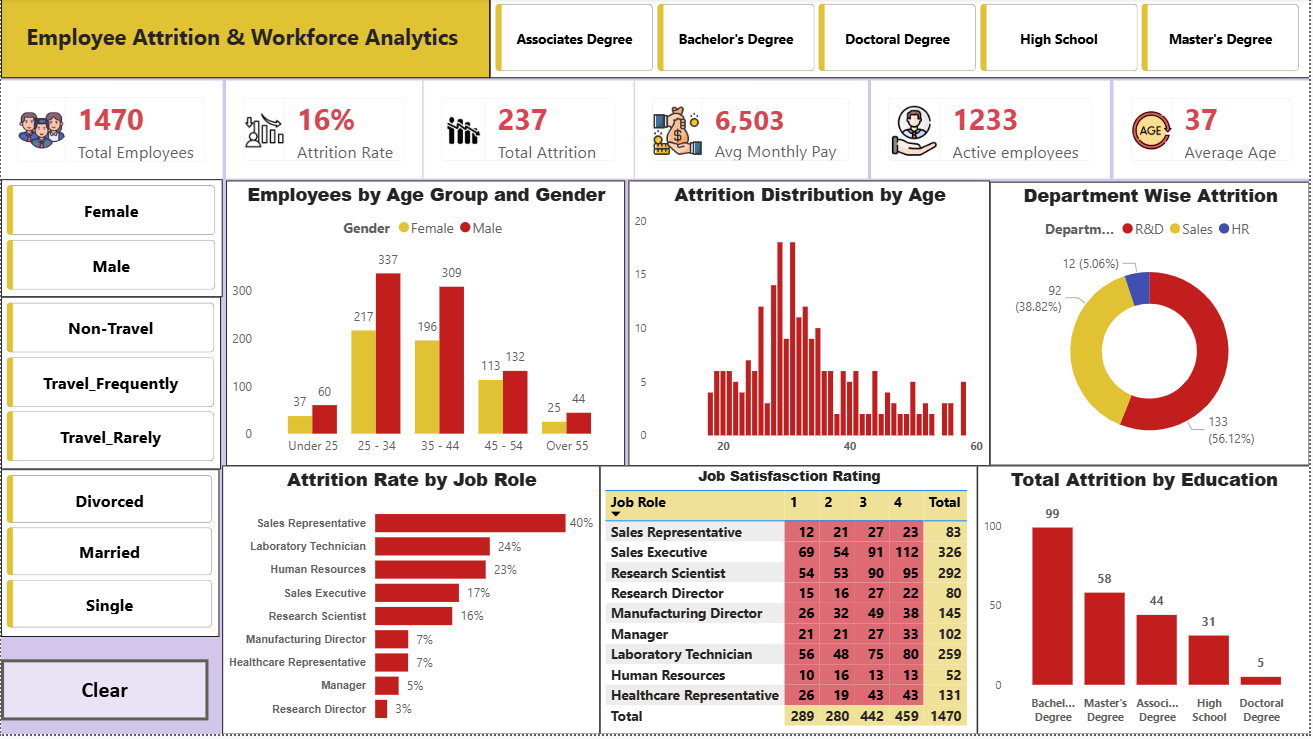

Layout of this report page (visuals, bound fields, positions):
{"tool":"powerbi","page":{"name":"HR Dashboard","canvas":[1280,720],"ordinal":0},"visuals":[{"type":"cardVisual","title":"Att","fields":{"Data":["Measures (2).Total Employees"]},"box":[0,80.7,216.4,96.6],"z":0},{"type":"cardVisual","fields":{"Data":["Measures (2).Average Monthly salary"]},"box":[620.2,81,227.8,96.1],"z":1000},{"type":"cardVisual","fields":{"Data":["Measures (2).Total Attrition"]},"box":[413,81,205.8,96.1],"z":2000},{"type":"cardVisual","fields":{"Data":["Measures (2).Attrition Rate"]},"box":[219.6,81,192.1,96.1],"z":3000},{"type":"cardVisual","fields":{"Data":["Measures (2).Active employees"]},"box":[850.8,81,233.3,96.1],"z":4000},{"type":"cardVisual","fields":{"Data":["Measures (2).Average Age"]},"box":[1088.2,81,192.1,96.1],"z":5000},{"type":"clusteredColumnChart","title":"Employees by Age Group and Gender","fields":{"Y":["Measures (2).Total Employees"],"Category":["HR data.Age Group"],"Series":["HR data.Gender"]},"box":[220.1,178.5,390.1,278.8],"z":6000},{"type":"clusteredColumnChart","title":"Attrition Distribution by Age","fields":{"Category":["HR data.Age"],"Y":["Measures (2).Total Attrition"]},"box":[613.9,178.5,353.4,278.8],"z":7000},{"type":"donutChart","title":"Department Wise Attrition","fields":{"Category":["HR data.Department"],"Y":["Measures (2).Total Attrition"]},"box":[967.3,179.8,313,277.6],"z":8000},{"type":"barChart","fields":{"Category":["HR data.Job Role"],"Y":["Measures (2).Attrition Rate"]},"box":[216.4,457.3,369.3,262.9],"z":9000},{"type":"pivotTable","title":"Job Satisfasction Rating","fields":{"Rows":["HR data.Job Role"],"Columns":["HR data.Job Satisfaction"],"Values":["Measures (2).Total Employees"]},"box":[585.7,457.3,369.3,262.9],"z":10000},{"type":"columnChart","fields":{"Category":["HR data.Education"],"Y":["Measures (2).Total Attrition"]},"box":[955,457.3,325.3,262.9],"z":11000},{"type":"advancedSlicerVisual","fields":{"Values":["HR data.Gender"]},"box":[0,177.3,216.4,114.9],"z":12000},{"type":"advancedSlicerVisual","fields":{"Values":["HR data.Marital Status"]},"box":[0,461,214,163.9],"z":13000},{"type":"advancedSlicerVisual","fields":{"Values":["HR data.Business Travel"]},"box":[0,292.3,215.2,168.8],"z":14000},{"type":"advancedSlicerVisual","fields":{"Values":["HR data.Education"]},"box":[478.1,0,802.2,78.3],"z":14001},{"type":"actionButton","box":[0,646.9,203,59.9],"z":14002},{"type":"textbox","box":[0,0,478.1,78],"z":14003}]}

Visuals, with their boxes in screenshot pixels (x1, y1, x2, y2), scaled from the page's 1280x720 canvas onto the 1313x739 screenshot:
"Att" cardVisual: (0,83,222,182)
cardVisual - Measures (2).Average Monthly salary: (636,83,870,182)
cardVisual - Measures (2).Total Attrition: (424,83,635,182)
cardVisual - Measures (2).Attrition Rate: (225,83,422,182)
cardVisual - Measures (2).Active employees: (873,83,1112,182)
cardVisual - Measures (2).Average Age: (1116,83,1312,182)
"Employees by Age Group and Gender" clusteredColumnChart: (226,183,626,469)
"Attrition Distribution by Age" clusteredColumnChart: (630,183,992,469)
"Department Wise Attrition" donutChart: (992,185,1312,469)
barChart - HR data.Job Role x Measures (2).Attrition Rate: (222,469,601,738)
"Job Satisfasction Rating" pivotTable: (601,469,980,738)
columnChart - HR data.Education x Measures (2).Total Attrition: (980,469,1312,738)
advancedSlicerVisual - HR data.Gender: (0,182,222,300)
advancedSlicerVisual - HR data.Marital Status: (0,473,220,641)
advancedSlicerVisual - HR data.Business Travel: (0,300,221,473)
advancedSlicerVisual - HR data.Education: (490,0,1312,80)
actionButton: (0,664,208,725)
textbox: (0,0,490,80)
